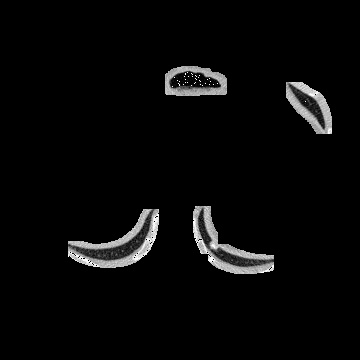PN: (209, 241, 217, 249)
